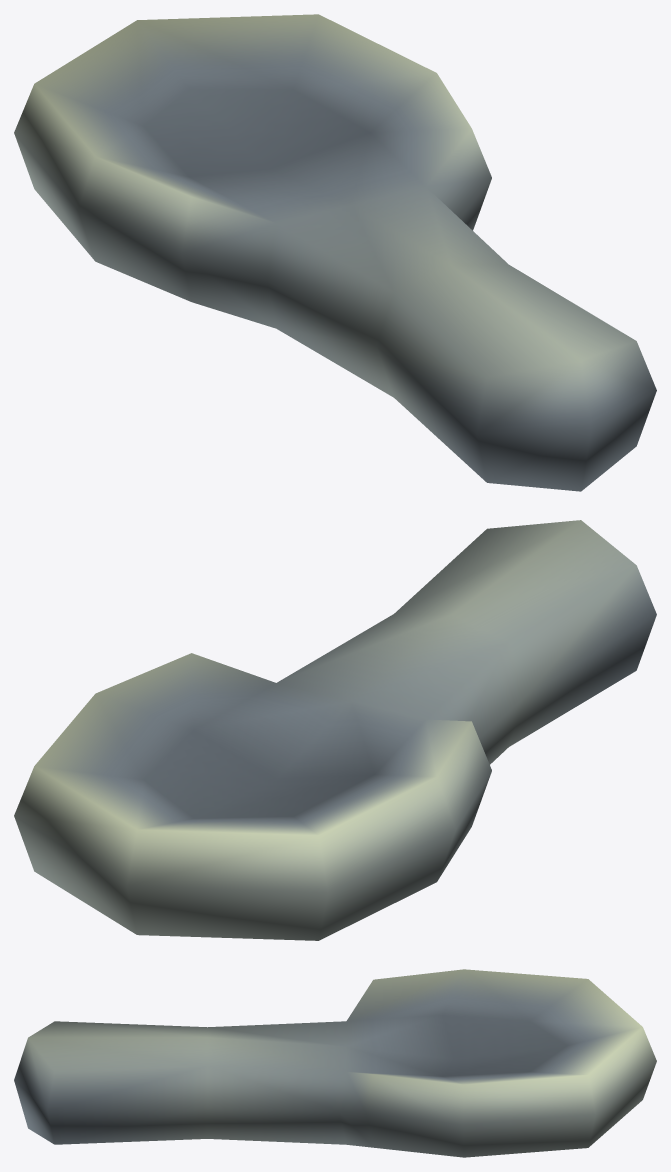
Rendered from spoon_LOD_setup.fbx.
The picture shows the model from 3 angles, top to bottom: view 1: azimuth 30°, elevation 25°; view 2: azimuth 150°, elevation 25°; view 3: azimuth 270°, elevation 25°; orthographic projection. The views are drawn at different scales.
Parts seen in each view (by area): view 1: spoon_LOD0; view 2: spoon_LOD0; view 3: spoon_LOD0.
Boxes of the visible parts, x1=… form: spoon_LOD0: x1=14, y1=14, x2=656, y2=491; spoon_LOD0: x1=14, y1=520, x2=656, y2=940; spoon_LOD0: x1=14, y1=969, x2=656, y2=1157.
Size of what is drawn, in the model's own units: 25.25 by 9.8 by 53.73.
